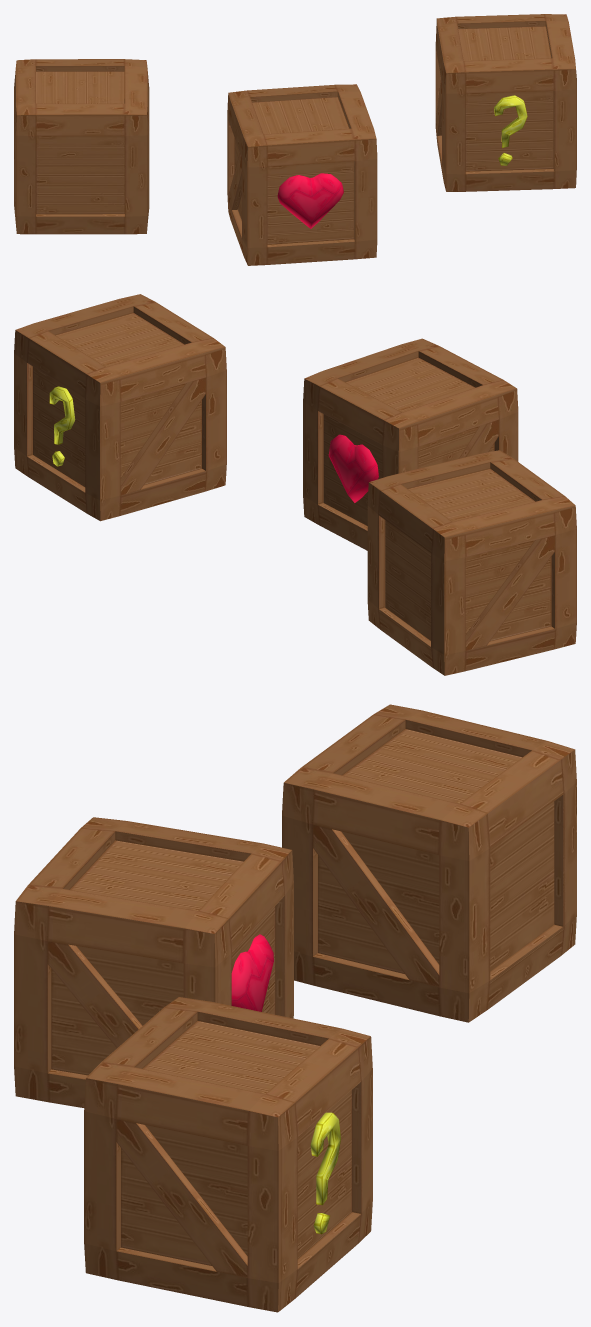
Rendered from CartoonBoxes.fbx.
The picture shows the model from 3 angles, top to bottom: view 1: azimuth 30°, elevation 25°; view 2: azimuth 150°, elevation 25°; view 3: azimuth 270°, elevation 25°; orthographic projection. The views are drawn at different scales.
Visible parts, largest first — view 1: CAJA VIDA, CAJA ENIGMA, BASE BOX; view 2: CAJA ENIGMA, BASE BOX, CAJA VIDA; view 3: CAJA ENIGMA, BASE BOX, CAJA VIDA.
Boxes of the visible parts, x1,y1,x2,y2 form: CAJA VIDA: (227, 84, 377, 265); CAJA ENIGMA: (435, 14, 576, 191); BASE BOX: (14, 59, 149, 234); CAJA ENIGMA: (14, 294, 226, 521); BASE BOX: (367, 450, 576, 675); CAJA VIDA: (303, 338, 518, 550); CAJA ENIGMA: (84, 997, 372, 1312); BASE BOX: (282, 704, 576, 1022); CAJA VIDA: (14, 817, 293, 1107).
Size of the model in its own units: 426 by 95.41 by 245.
3 materials, 3 textured.
